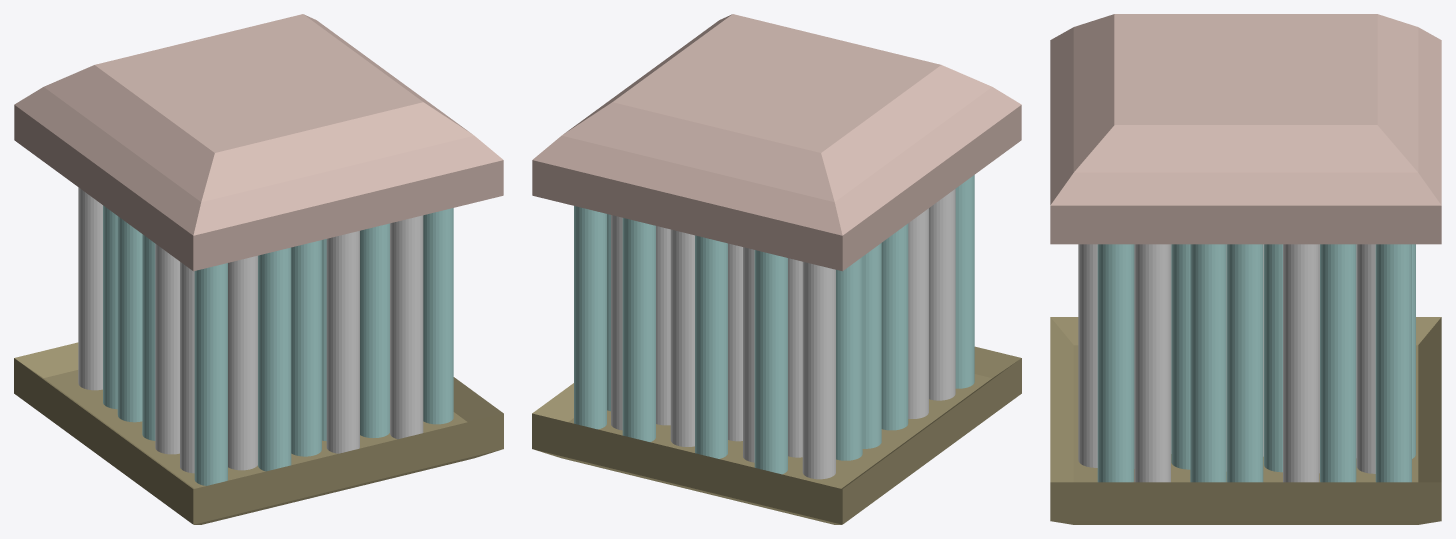
Rendered from kontener.fbx.
3 renders of one model, left to right at view 1: azimuth 30°, elevation 25°; view 2: azimuth 150°, elevation 25°; view 3: azimuth 270°, elevation 25°, orthographic. The views are drawn at different scales.
Visible parts, largest first — view 1: Cube.001, Cube, Cylinder.004, Cylinder.003, Cylinder.007, Cylinder, Cylinder.028, Cylinder.027, Cylinder.031, Cylinder.024, Cylinder.015, Cylinder.001 (+5 smaller); view 2: Cube.001, Cube, Cylinder.022, Cylinder.017, Cylinder.014, Cylinder.021, Cylinder.018, Cylinder.048, Cylinder.062, Cylinder.009, Cylinder.049, Cylinder.001 (+8 smaller); view 3: Cube.001, Cube, Cylinder.037, Cylinder.026, Cylinder.043, Cylinder.027, Cylinder.021, Cylinder.020, Cylinder.042, Cylinder.010, Cylinder.005, Cylinder.004 (+2 smaller).
Part boxes in pixels (x1,y1,x2,y2): Cube.001: [14, 14, 503, 271]; Cube: [14, 342, 503, 524]; Cylinder.004: [390, 215, 423, 439]; Cylinder.003: [258, 247, 291, 471]; Cylinder.007: [326, 231, 359, 453]; Cylinder: [194, 263, 227, 485]; Cylinder.028: [291, 240, 321, 456]; Cylinder.027: [423, 208, 453, 424]; Cylinder.031: [228, 255, 257, 470]; Cylinder.024: [360, 223, 389, 437]; Cylinder.015: [117, 216, 142, 422]; Cylinder.001: [155, 244, 179, 454]; Cube.001: [532, 14, 1021, 271]; Cube: [532, 346, 1021, 524]; Cylinder.022: [622, 218, 655, 441]; Cylinder.017: [754, 250, 787, 474]; Cylinder.014: [802, 262, 835, 479]; Cylinder.021: [574, 206, 606, 429]; Cylinder.018: [695, 235, 727, 458]; Cylinder.048: [881, 223, 908, 430]; Cylinder.062: [929, 189, 955, 400]; Cylinder.009: [670, 229, 694, 446]; Cylinder.049: [836, 257, 862, 460]; Cylinder.001: [908, 208, 928, 418]; Cube.001: [1050, 14, 1441, 244]; Cube: [1050, 317, 1441, 524]; Cylinder.037: [1134, 244, 1170, 482]; Cylinder.026: [1190, 244, 1226, 482]; Cylinder.043: [1227, 244, 1263, 482]; Cylinder.027: [1097, 244, 1133, 482]; Cylinder.021: [1375, 244, 1411, 482]; Cylinder.020: [1283, 244, 1319, 482]; Cylinder.042: [1320, 244, 1356, 482]; Cylinder.010: [1356, 244, 1375, 473]; Cylinder.005: [1171, 244, 1190, 469]; Cylinder.004: [1078, 244, 1097, 467].
Size of the model in its own units: 561 by 632 by 561.
